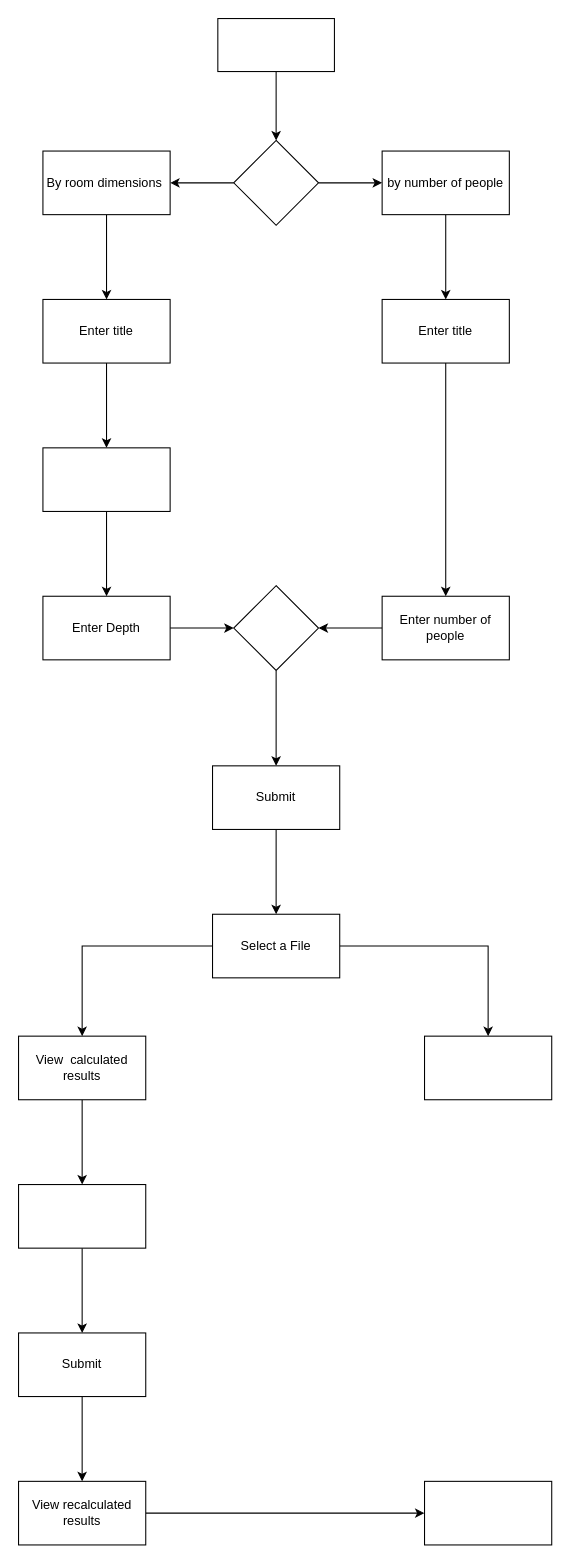
The diagram is 570 pixels wide and 1563 high, and some of its shapes have lost their labels. Each missing label, with the centre of its shape:
"Add a design" goes at point 275,44.
"Change values" goes at point 81,1215.
"Enter Width" goes at point 106,479.
"View 3D room" goes at point 487,1067.
"View changed 3D view" goes at point 487,1512.
